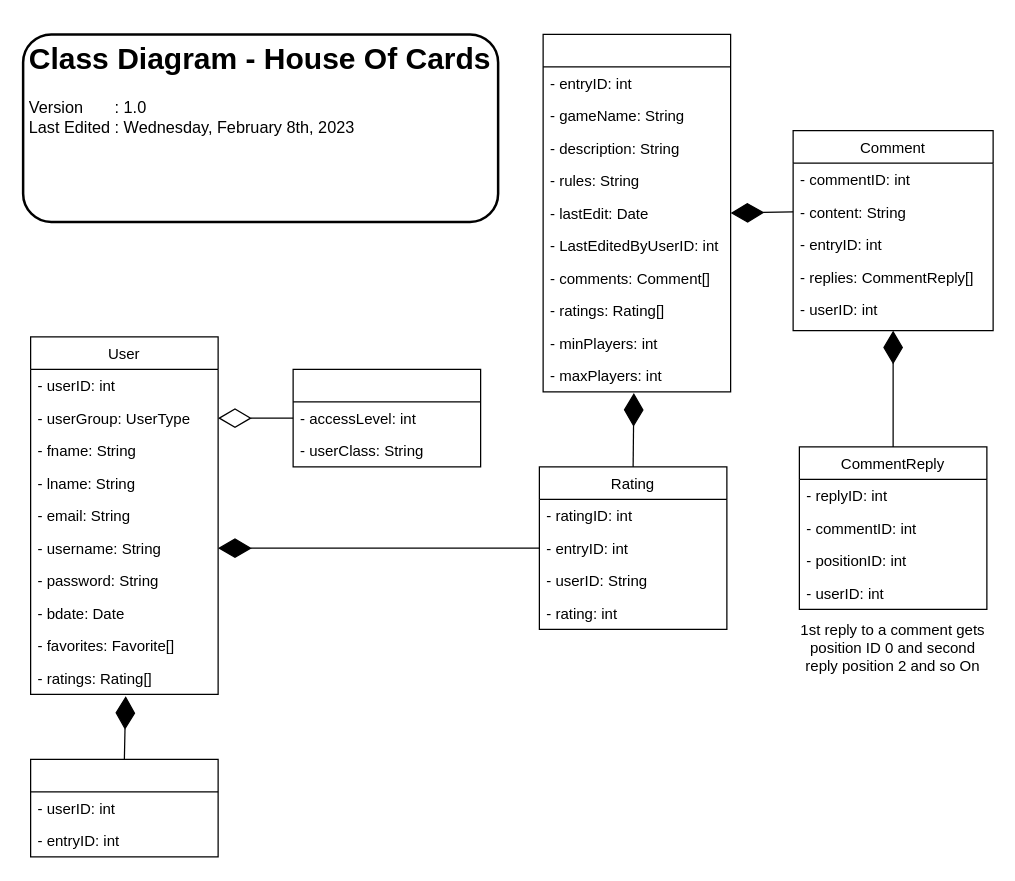
The diagram is 1015 pixels wide and 881 high, and some of its shapes have lost their labels. The shapes that lost their labels are listed below. From the top down, each one's box as (x1, y1, x2, y2) in pixels, then its label:
(542, 33, 731, 392): wikiEntry
(292, 368, 481, 467): UserType
(29, 758, 218, 857): Favorite
